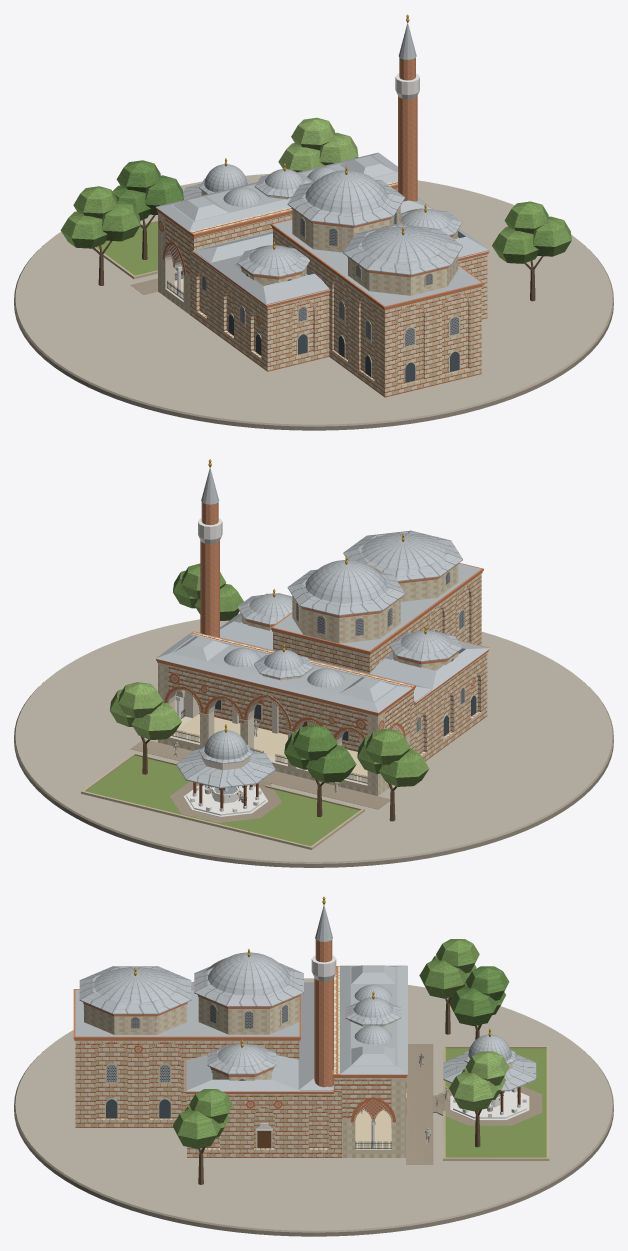
Rendered from orhan-bey-camii_v11_sunum.glb.
The picture shows the model from 3 angles, top to bottom: view 1: azimuth 30°, elevation 25°; view 2: azimuth 150°, elevation 25°; view 3: azimuth 270°, elevation 25°; orthographic projection.
Parts seen in each view (by area): view 1: Zemin_Kaide, Cami_Govde, Cami_Mihrap, Cami_SonCemaat, Kubbe_Mihrap, Kubbe_Ana, Cami_Ortu, Cevre_Agac_01, Cevre_Agac_04, Minare, Kubbe_Tabhaneler, Cevre_Agac_02 (+5 smaller); view 2: Zemin_Kaide, Cami_SonCemaat, Cami_Govde, Cevre_Doseme, Kubbe_Ana, Sadirvan, Kubbe_Mihrap, Cami_Ortu, Kubbe_Tabhaneler, Minare, Cevre_Agac_03, Cevre_Agac_04 (+5 smaller); view 3: Zemin_Kaide, Cami_Govde, Cami_SonCemaat, Cevre_Doseme, Cami_Mihrap, Kubbe_Ana, Kubbe_Mihrap, Cami_Ortu, Sadirvan, Minare, Cevre_Agac_02, Cevre_Agac_03 (+5 smaller).
Boxes of the visible parts, <box> form: Zemin_Kaide: <box>14,173,613,430</box>; Cami_Govde: <box>156,163,489,383</box>; Cami_Mihrap: <box>323,266,481,397</box>; Cami_SonCemaat: <box>156,152,397,314</box>; Kubbe_Mihrap: <box>343,224,462,295</box>; Kubbe_Ana: <box>287,170,405,252</box>; Cami_Ortu: <box>192,198,490,306</box>; Cevre_Agac_01: <box>492,201,571,263</box>; Cevre_Agac_04: <box>60,186,140,248</box>; Minare: <box>395,14,419,201</box>; Kubbe_Tabhaneler: <box>237,208,462,285</box>; Cevre_Agac_02: <box>278,117,358,172</box>; Zemin_Kaide: <box>14,613,613,867</box>; Cami_SonCemaat: <box>156,633,412,795</box>; Cami_Govde: <box>156,563,489,779</box>; Cevre_Doseme: <box>81,739,390,849</box>; Kubbe_Ana: <box>287,560,405,643</box>; Sadirvan: <box>176,724,275,816</box>; Kubbe_Mihrap: <box>343,530,462,601</box>; Cami_Ortu: <box>220,563,490,702</box>; Kubbe_Tabhaneler: <box>237,593,462,670</box>; Minare: <box>198,459,222,637</box>; Cevre_Agac_03: <box>284,724,356,782</box>; Cevre_Agac_04: <box>357,729,429,786</box>; Zemin_Kaide: <box>14,978,613,1236</box>; Cami_Govde: <box>73,966,407,1157</box>; Cami_SonCemaat: <box>340,965,407,1157</box>; Cevre_Doseme: <box>406,1044,549,1164</box>; Cami_Mihrap: <box>75,1041,198,1127</box>; Kubbe_Ana: <box>194,952,303,1034</box>; Kubbe_Mihrap: <box>79,966,191,1034</box>; Cami_Ortu: <box>75,981,333,1091</box>; Sadirvan: <box>443,1028,536,1120</box>; Minare: <box>311,896,336,1087</box>; Cevre_Agac_02: <box>449,1051,509,1111</box>; Cevre_Agac_03: <box>449,966,509,1025</box>.
Size of the model in its own units: 60.76 by 29.25 by 60.76.
32 materials, 20 textured.
